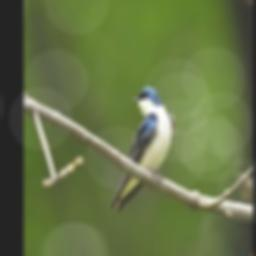Swallow: (108, 84, 175, 212)
